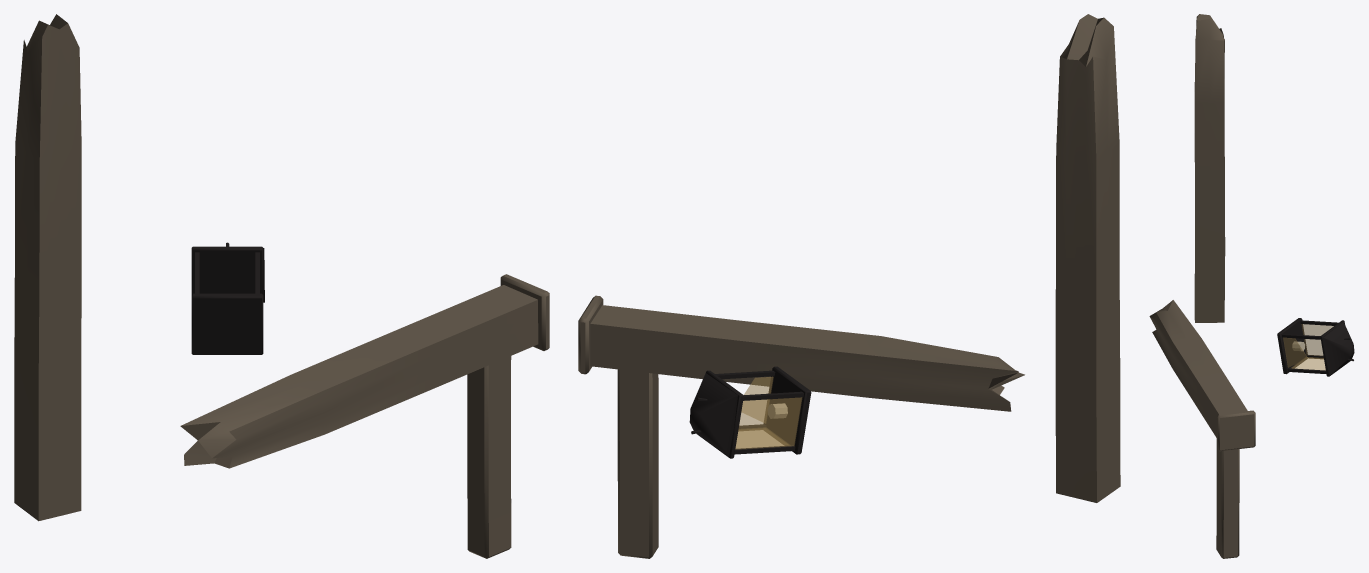
The model's file is laternenpfahl_kaputt.glb.
3 views of the same model, side by side, from view 1: azimuth 30°, elevation 25°; view 2: azimuth 150°, elevation 25°; view 3: azimuth 270°, elevation 25° (orthographic). The views are drawn at different scales.
Visible parts, largest first — view 1: laternenpfahl_kaputt; view 2: laternenpfahl_kaputt; view 3: laternenpfahl_kaputt.
Boxes of the visible parts, x1,y1,x2,y2 form: laternenpfahl_kaputt: (14, 14, 549, 558); laternenpfahl_kaputt: (578, 14, 1120, 558); laternenpfahl_kaputt: (1149, 14, 1354, 558).
Size of the model in its own units: 1.63 by 1.92 by 0.8873.
